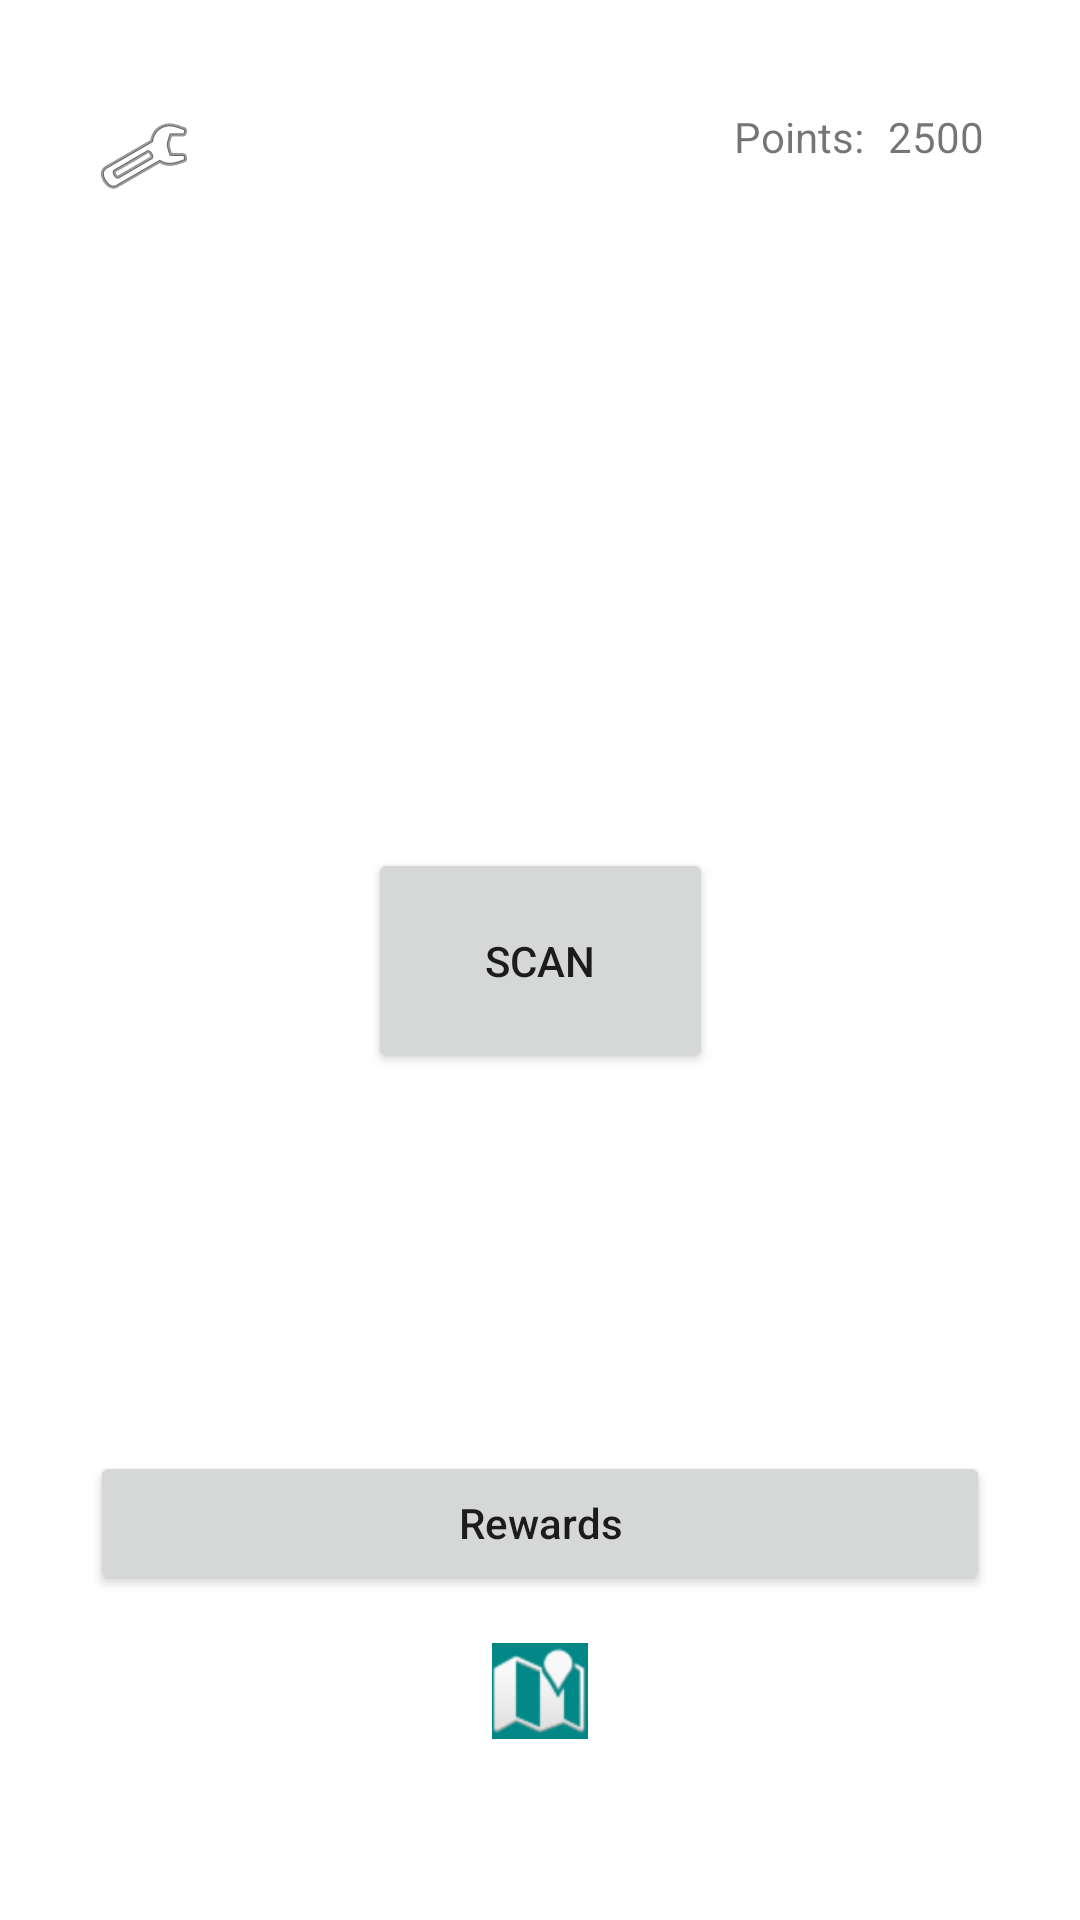

Locate icon controls on the screen. Image size 1080px×1920px, boxes as (x1, y1, x2, y2).
manage: (101, 123, 187, 189)
map: (492, 1643, 588, 1739)
